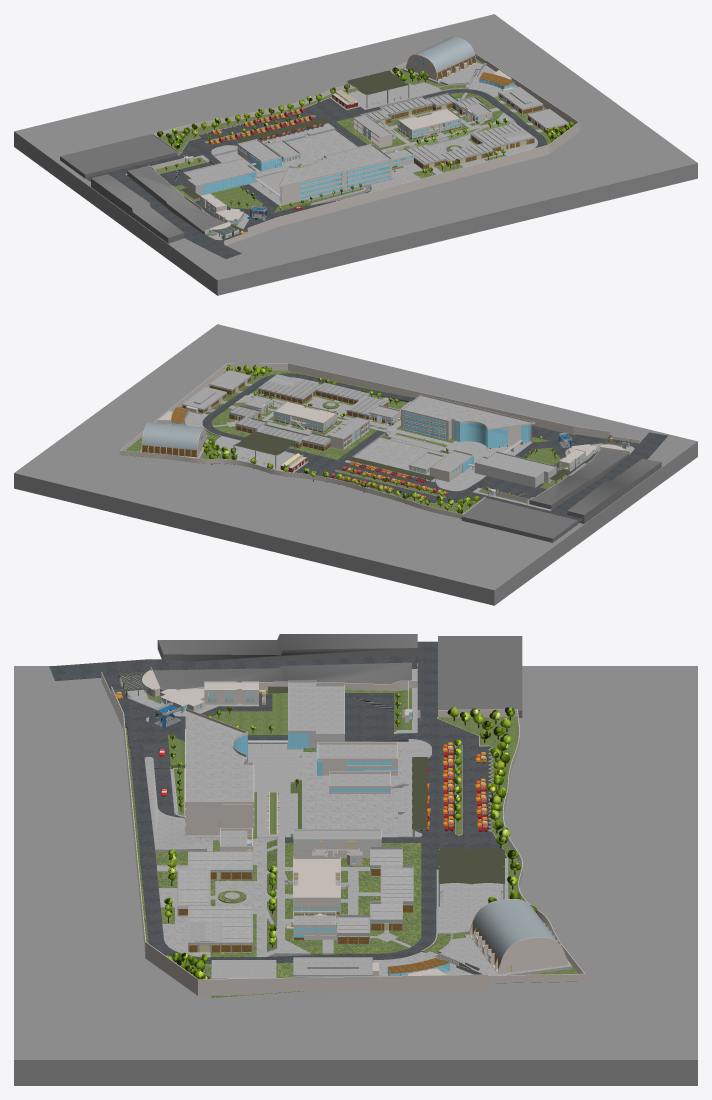
The picture shows the model from 3 angles, top to bottom: view 1: azimuth 30°, elevation 25°; view 2: azimuth 150°, elevation 25°; view 3: azimuth 270°, elevation 25°; orthographic projection. The views are drawn at different scales.
Visible parts, largest first — view 1: Box036, muros dep002, Object083, Pista, manzaneo, Line069, Arbol 053, vidrio001, tech come, rashell005, ventanas chico, Object161 (+1 smaller); view 2: Box036, muros dep002, Object083, Pista, manzaneo, Line069, Arbol 053, vidrio001, tech come, futuro 001, rashell005, Object161 (+1 smaller); view 3: Box036, muros dep002, Object083, Pista, manzaneo, Line069, Arbol 053, rashell005, Object161, tech come, ventanas chico, futuro 001 (+2 smaller).
Boxes of the visible parts, x1=… form: Box036: x1=14, y1=14, x2=697, y2=295; muros dep002: x1=125, y1=62, x2=568, y2=240; Object083: x1=148, y1=37, x2=579, y2=245; Pista: x1=85, y1=89, x2=546, y2=258; manzaneo: x1=60, y1=134, x2=224, y2=243; Line069: x1=155, y1=59, x2=570, y2=235; Arbol 053: x1=157, y1=67, x2=574, y2=209; vidrio001: x1=239, y1=108, x2=491, y2=203; tech come: x1=376, y1=56, x2=564, y2=168; rashell005: x1=181, y1=70, x2=408, y2=198; ventanas chico: x1=201, y1=79, x2=567, y2=237; Object161: x1=414, y1=37, x2=474, y2=72; Box036: x1=14, y1=324, x2=697, y2=605; muros dep002: x1=140, y1=370, x2=634, y2=510; Object083: x1=119, y1=363, x2=639, y2=518; Pista: x1=202, y1=373, x2=668, y2=523; manzaneo: x1=461, y1=449, x2=661, y2=542; Line069: x1=122, y1=370, x2=630, y2=517; Arbol 053: x1=203, y1=365, x2=557, y2=518; vidrio001: x1=259, y1=400, x2=530, y2=494; tech come: x1=142, y1=377, x2=400, y2=457; futuro 001: x1=331, y1=440, x2=556, y2=503; rashell005: x1=233, y1=431, x2=569, y2=480; Object161: x1=142, y1=422, x2=202, y2=450; Box036: x1=14, y1=666, x2=697, y2=1085; muros dep002: x1=121, y1=669, x2=572, y2=978; Object083: x1=101, y1=667, x2=585, y2=995; Pista: x1=49, y1=641, x2=506, y2=963; manzaneo: x1=153, y1=634, x2=522, y2=717; Line069: x1=124, y1=676, x2=578, y2=997; Arbol 053: x1=164, y1=693, x2=537, y2=979; rashell005: x1=268, y1=686, x2=504, y2=884; Object161: x1=472, y1=899, x2=558, y2=960; tech come: x1=178, y1=869, x2=500, y2=977; ventanas chico: x1=142, y1=684, x2=449, y2=976; futuro 001: x1=248, y1=680, x2=508, y2=858.
Size of the model in its own units: 366 by 34.01 by 265.
Materials: 248 (77 with a texture image).
